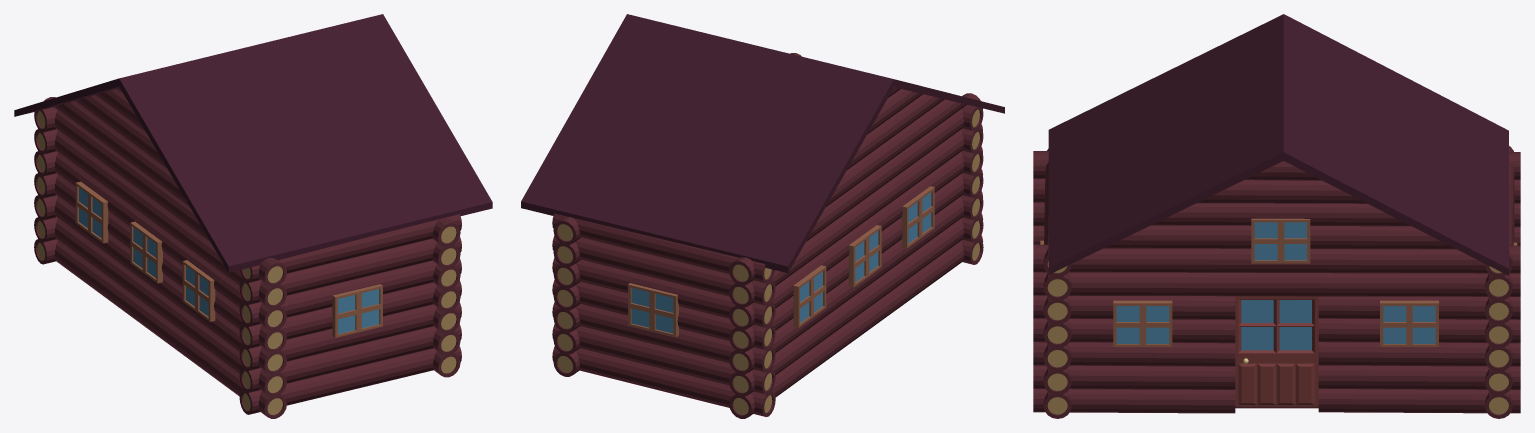
Rendered from finished_cabin.fbx.
3 views of the same model, side by side, from view 1: azimuth 30°, elevation 25°; view 2: azimuth 150°, elevation 25°; view 3: azimuth 270°, elevation 25° (orthographic). The views are drawn at different scales.
Visible parts, largest first — view 1: Cube, MurG, Glass, FondToit.014, CoteD, Haute; view 2: Cube, MurG, Glass, FondToit.014, CoteD, Haute; view 3: Cube, CoteD, Haute, FondToit.014, MurG, glassdoor, Glass.
Boxes of the visible parts, x1,y1,x2,y2 form: Cube: [14, 14, 492, 272]; MurG: [34, 97, 461, 418]; Glass: [75, 181, 382, 337]; FondToit.014: [53, 87, 190, 208]; CoteD: [433, 264, 460, 377]; Haute: [432, 218, 460, 268]; Cube: [521, 14, 1004, 273]; MurG: [552, 93, 983, 418]; Glass: [628, 186, 934, 337]; FondToit.014: [826, 87, 966, 206]; CoteD: [553, 263, 580, 376]; Haute: [553, 53, 801, 267]; Cube: [1048, 14, 1508, 275]; CoteD: [1033, 295, 1520, 413]; Haute: [1033, 244, 1520, 296]; FondToit.014: [1103, 161, 1455, 249]; MurG: [1033, 146, 1520, 418]; glassdoor: [1235, 296, 1318, 406]; Glass: [1040, 218, 1517, 346].
Bounding box in the file's own units: 2336 × 2248 × 3480.
